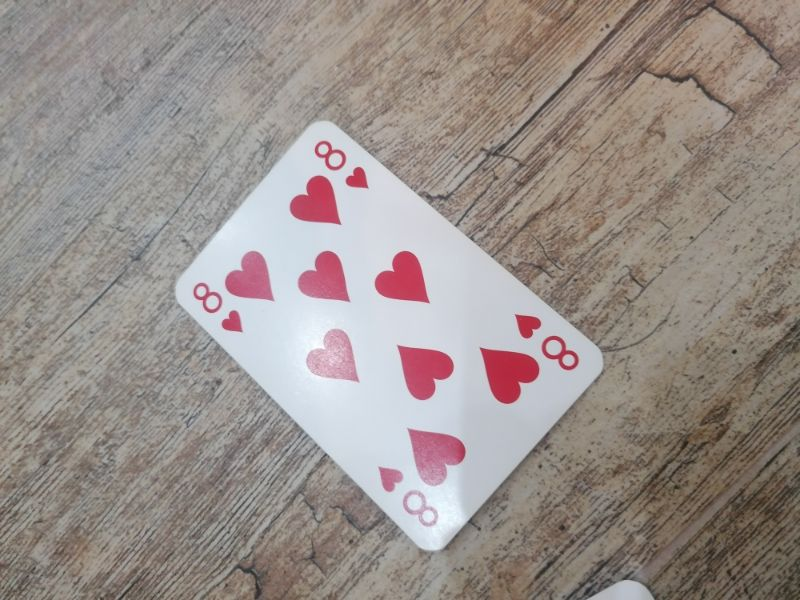8h: (511, 309, 582, 375), (374, 461, 441, 528), (312, 138, 372, 194), (191, 279, 247, 335)
